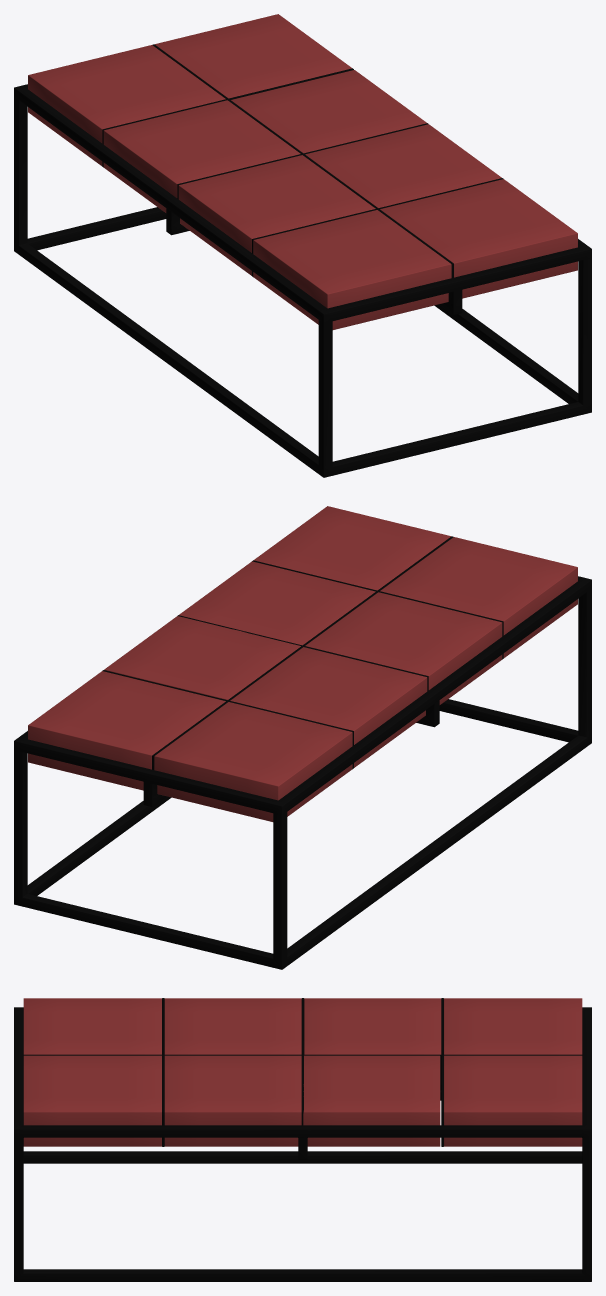
File: Pegas.FBX
The picture shows the model from 3 angles, top to bottom: view 1: azimuth 30°, elevation 25°; view 2: azimuth 150°, elevation 25°; view 3: azimuth 270°, elevation 25°; orthographic projection. The views are drawn at different scales.
Visible parts, largest first — view 1: Pegas_metall, Pegas_w004, Pegas_w001, Pegas_w003, Pegas_w005, Pegas_w008, Pegas_w002, Pegas_w006, Pegas_w007, Pegas_metal; view 2: Pegas_metall, Pegas_w003, Pegas_w002, Pegas_w004, Pegas_w008, Pegas_w005, Pegas_w001, Pegas_w007, Pegas_w006, Pegas_metal; view 3: Pegas_metall, Pegas_w001, Pegas_w002, Pegas_w006, Pegas_w007, Pegas_w003, Pegas_w004, Pegas_w005, Pegas_w008, Pegas_metal.
Part boxes in pixels (x1=…): Pegas_metall: x1=14, y1=84, x2=591, y2=477; Pegas_w004: x1=253, y1=210, x2=451, y2=329; Pegas_w001: x1=380, y1=179, x2=577, y2=298; Pegas_w003: x1=28, y1=45, x2=225, y2=165; Pegas_w005: x1=178, y1=155, x2=375, y2=275; Pegas_w008: x1=103, y1=100, x2=300, y2=212; Pegas_w002: x1=155, y1=14, x2=351, y2=98; Pegas_w006: x1=305, y1=124, x2=501, y2=207; Pegas_w007: x1=231, y1=70, x2=426, y2=153; Pegas_metal: x1=102, y1=44, x2=503, y2=277; Pegas_metall: x1=14, y1=576, x2=591, y2=969; Pegas_w003: x1=154, y1=702, x2=352, y2=821; Pegas_w002: x1=28, y1=671, x2=225, y2=790; Pegas_w004: x1=380, y1=537, x2=577, y2=657; Pegas_w008: x1=230, y1=647, x2=427, y2=767; Pegas_w005: x1=305, y1=592, x2=502, y2=704; Pegas_w001: x1=254, y1=506, x2=450, y2=590; Pegas_w007: x1=104, y1=616, x2=300, y2=699; Pegas_w006: x1=179, y1=561, x2=375, y2=645; Pegas_metal: x1=102, y1=536, x2=503, y2=769; Pegas_metall: x1=14, y1=1007, x2=591, y2=1281; Pegas_w001: x1=23, y1=1055, x2=161, y2=1146; Pegas_w002: x1=444, y1=1055, x2=582, y2=1146; Pegas_w006: x1=164, y1=1055, x2=301, y2=1146; Pegas_w007: x1=303, y1=1055, x2=440, y2=1146; Pegas_w003: x1=444, y1=998, x2=582, y2=1054; Pegas_w004: x1=23, y1=998, x2=161, y2=1054; Pegas_w005: x1=164, y1=998, x2=301, y2=1054; Pegas_w008: x1=304, y1=998, x2=441, y2=1054; Pegas_metal: x1=23, y1=998, x2=582, y2=1146.
Size of the model in its own units: 600 by 380 by 1200.
